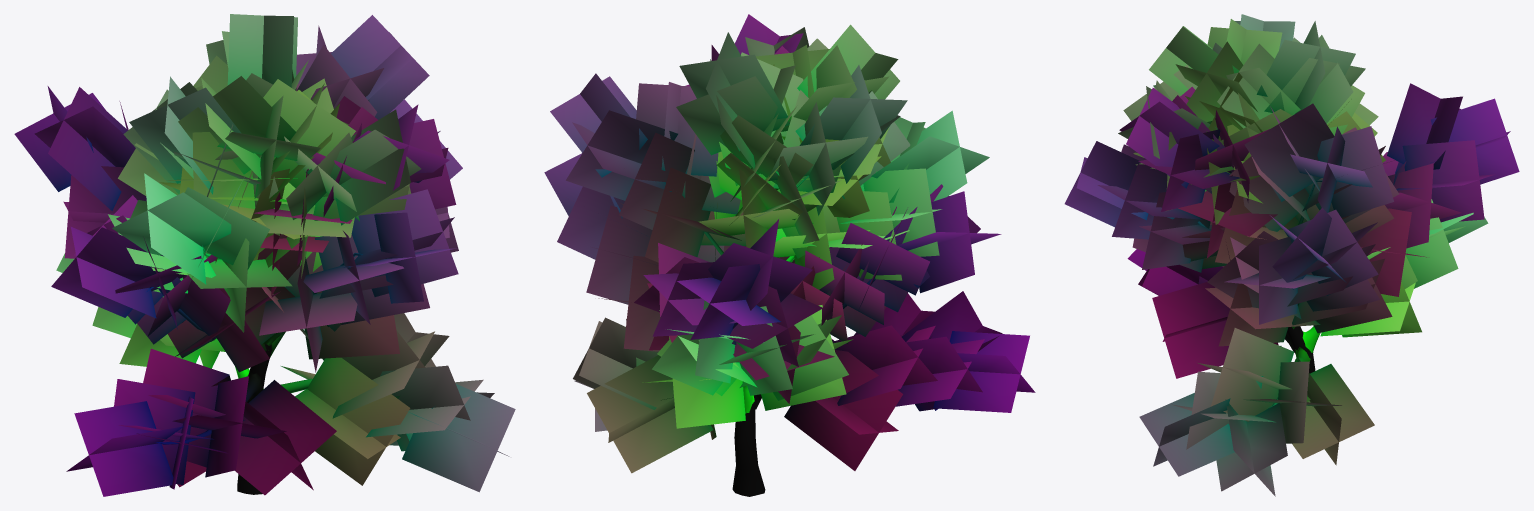
The model's file is M_P11_Tree_3.fbx.
3 views of the same model, side by side, from view 1: azimuth 30°, elevation 25°; view 2: azimuth 150°, elevation 25°; view 3: azimuth 270°, elevation 25° (orthographic). The views are drawn at different scales.
Parts seen in each view (by area): view 1: Tree_3; view 2: Tree_3; view 3: Tree_3.
Part boxes in pixels (x1,y1,x2,y2): Tree_3: (14, 14, 515, 496); Tree_3: (544, 14, 1035, 496); Tree_3: (1064, 14, 1519, 496).
Bounding box in the file's own units: 563 × 582 × 597.
